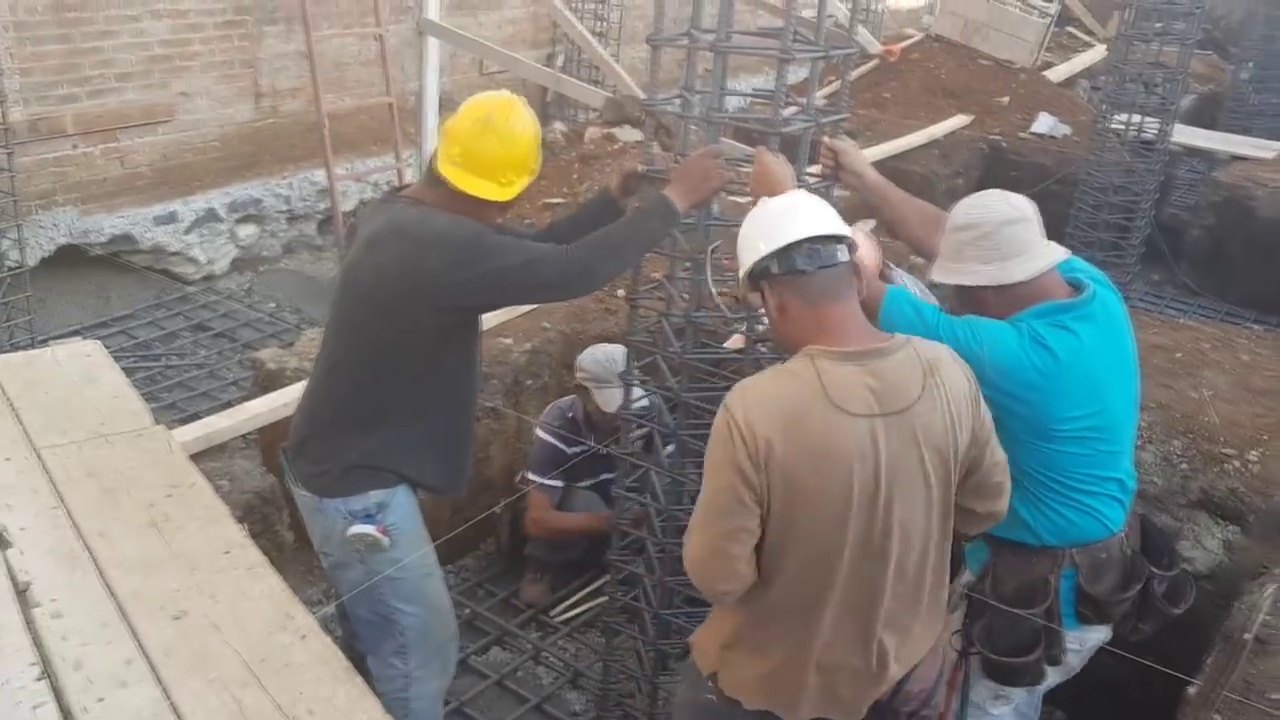helmet: (738, 185, 871, 296)
helmet-off: (930, 189, 1091, 324), (575, 344, 648, 436)
helmet-on: (733, 179, 902, 364), (392, 80, 547, 226), (410, 86, 543, 221)
person: (282, 79, 753, 718), (682, 170, 1011, 720), (828, 142, 1143, 711), (519, 347, 664, 606)
